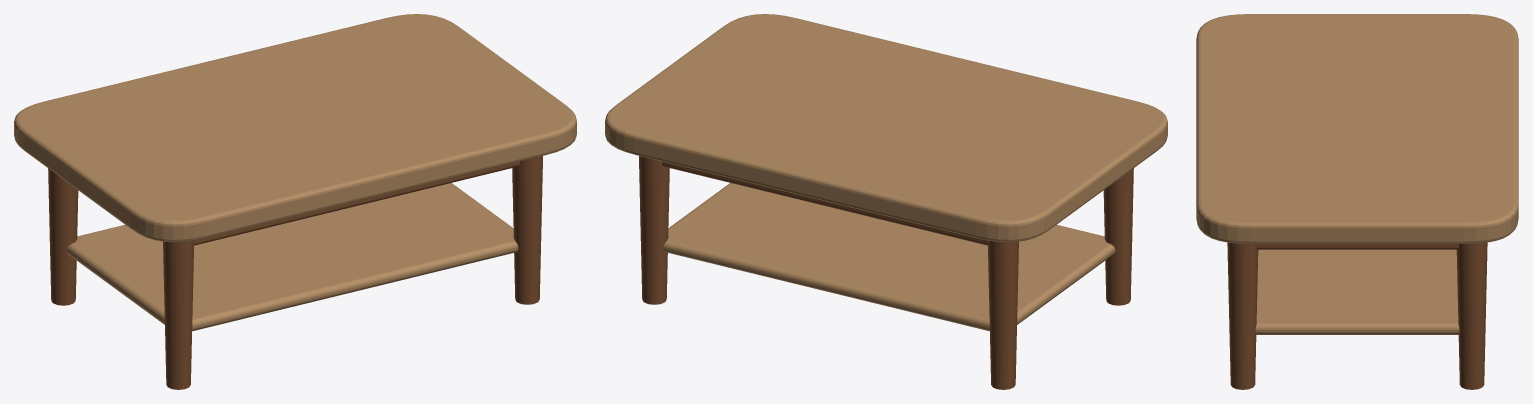
Rendered from coffeetable.glb.
The picture shows the model from 3 angles, left to right: view 1: azimuth 30°, elevation 25°; view 2: azimuth 150°, elevation 25°; view 3: azimuth 270°, elevation 25°; orthographic projection.
Parts seen in each view (by area): view 1: solid-rounded-tabletop, lower-shelf, leg--1-1, leg-1-1, leg--1--1, long-apron-1; view 2: solid-rounded-tabletop, lower-shelf, leg--1--1, leg-1--1, leg--1-1, long-apron--1; view 3: solid-rounded-tabletop, lower-shelf, leg-1--1, leg-1-1, end-apron-1.
Part boxes in pixels (left/top/right/bottom): solid-rounded-tabletop: left=14, top=14, right=576, bottom=242; lower-shelf: left=66, top=183, right=518, bottom=331; leg--1-1: left=163, top=240, right=193, bottom=389; leg-1-1: left=512, top=156, right=542, bottom=304; leg--1--1: left=48, top=168, right=78, bottom=305; long-apron-1: left=194, top=161, right=519, bottom=245; solid-rounded-tabletop: left=605, top=14, right=1167, bottom=242; lower-shelf: left=663, top=183, right=1115, bottom=331; leg--1--1: left=988, top=240, right=1018, bottom=389; leg-1--1: left=639, top=156, right=669, bottom=304; leg--1-1: left=1103, top=168, right=1133, bottom=305; long-apron--1: left=662, top=161, right=987, bottom=245; solid-rounded-tabletop: left=1196, top=14, right=1518, bottom=243; lower-shelf: left=1255, top=249, right=1459, bottom=334; leg-1--1: left=1456, top=242, right=1487, bottom=389; leg-1-1: left=1227, top=242, right=1258, bottom=389; end-apron-1: left=1256, top=244, right=1458, bottom=249.
Size of the model in its own units: 1.4 by 0.5598 by 0.9.
